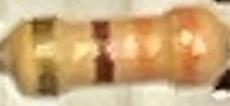Brown: (92, 21, 118, 81)
Orange: (169, 7, 197, 85), (133, 18, 162, 81)
Side-Gold: (34, 14, 63, 97)
